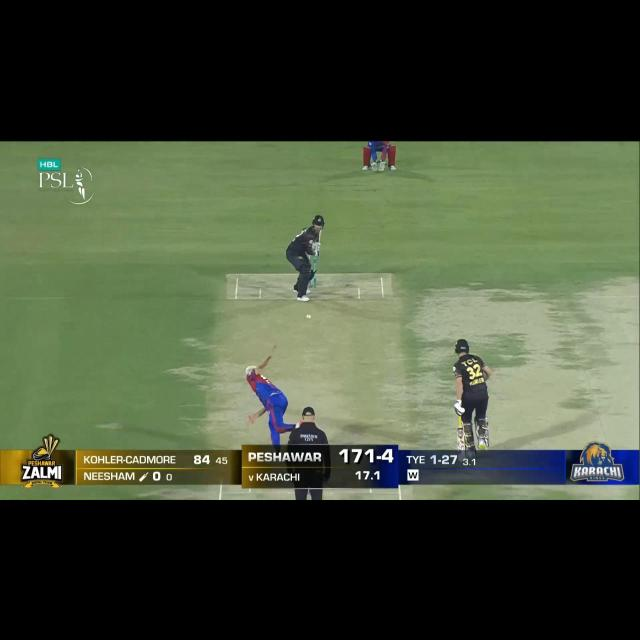bat: (454, 427, 466, 451), (315, 227, 324, 244)
